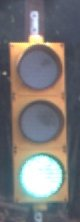Green: (5, 25, 76, 203)
